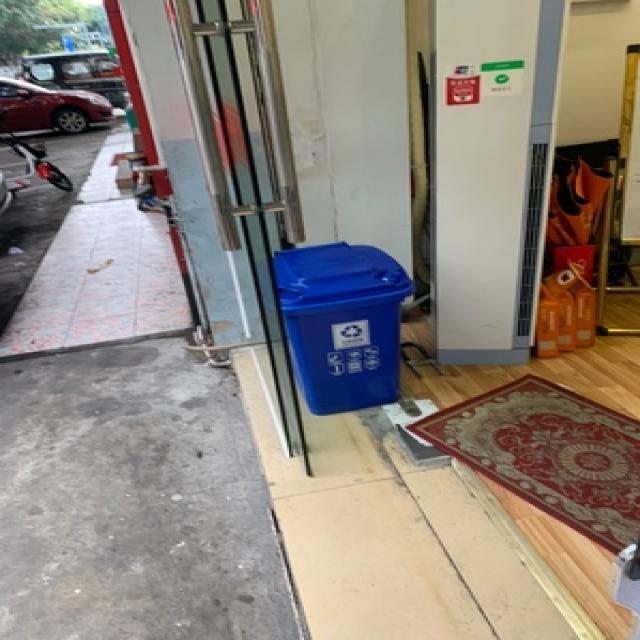ash bin: (272, 238, 413, 416)
car: (0, 75, 113, 134)
